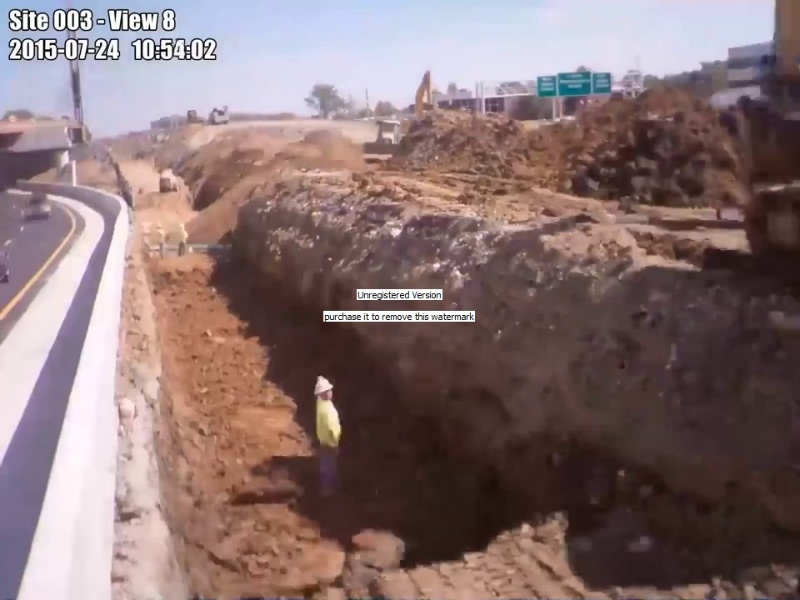excavator: (401, 68, 434, 139)
hardhat: (314, 377, 334, 396), (156, 222, 163, 228), (178, 223, 185, 228)
person: (313, 373, 343, 501), (176, 222, 189, 259), (155, 221, 166, 261)
